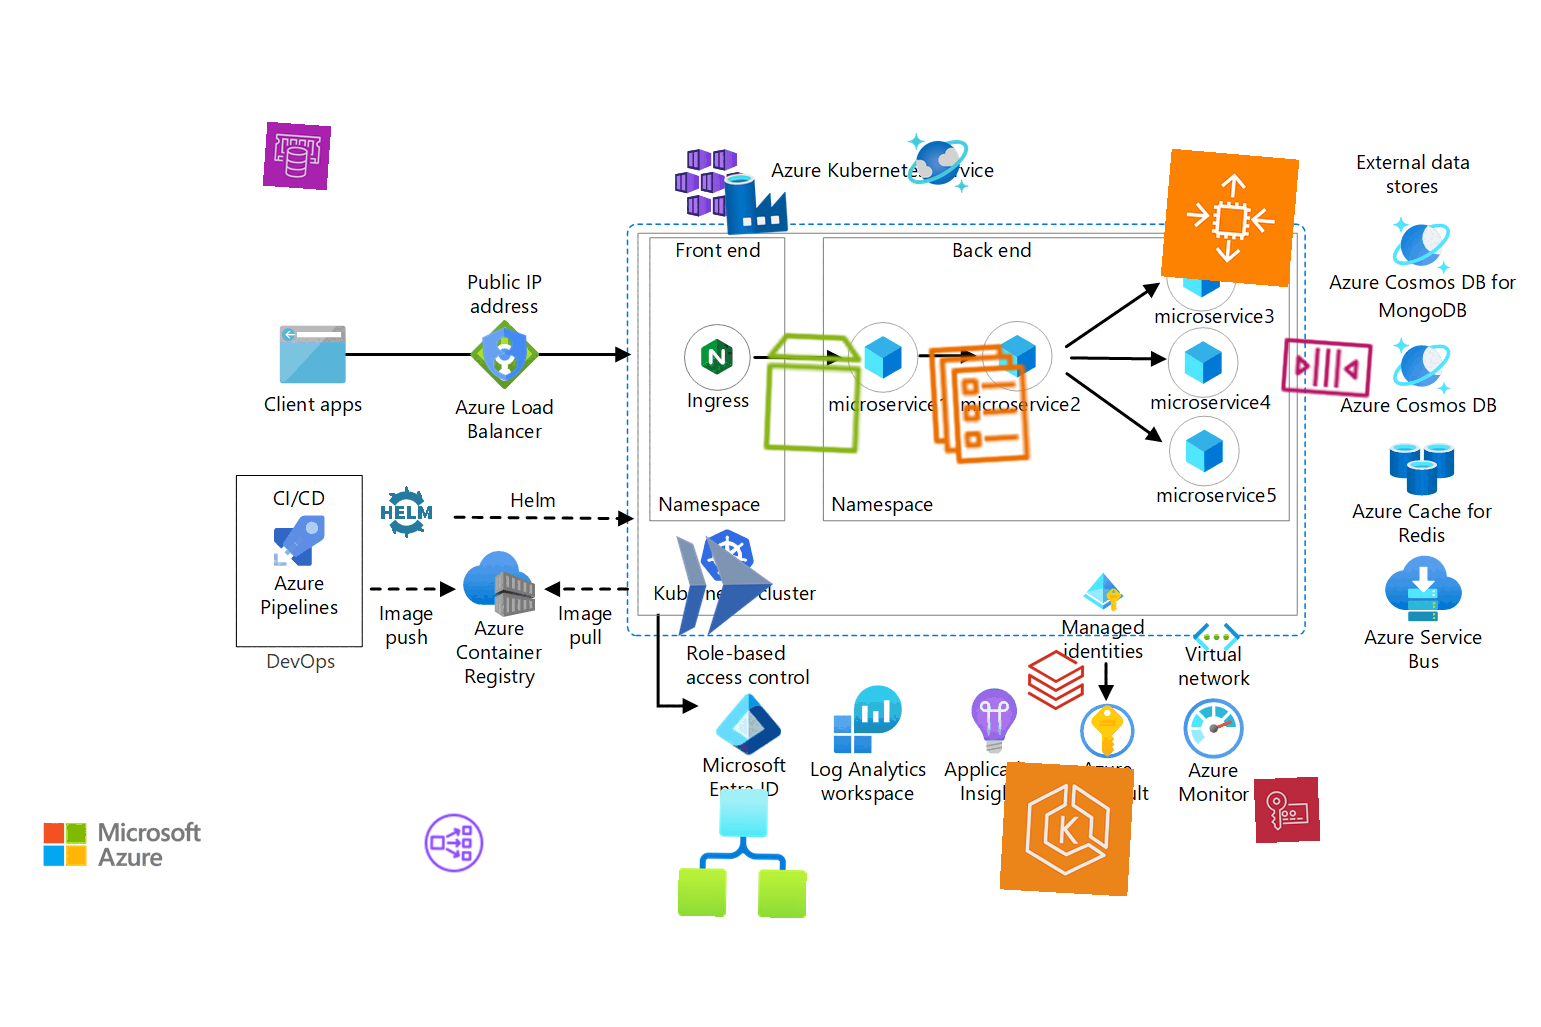aws_amazon_ec2_auto_scaling: (1159, 148, 1300, 288)
aws_amazon_elastic_kubernetes_service: (999, 761, 1135, 897)
aws_amazon_elasticache: (262, 121, 332, 191)
aws_elastic_block_store_volume: (747, 326, 881, 460)
aws_elastic_container_service_service: (912, 336, 1048, 472)
aws_elastic_load_balancing_network_load_balancer: (420, 810, 487, 876)
aws_key_management_service: (1253, 776, 1321, 844)
aws_simple_queue_service_queue: (1275, 315, 1379, 420)
azure_cosmos_db: (905, 130, 970, 196)
azure_data_factories: (721, 168, 791, 238)
azure_databricks: (1023, 646, 1088, 713)
azure_logic_apps: (677, 787, 809, 919)
gcp_cloud_run: (657, 519, 789, 651)
gcp_identity_and_access_management: (471, 320, 538, 389)
